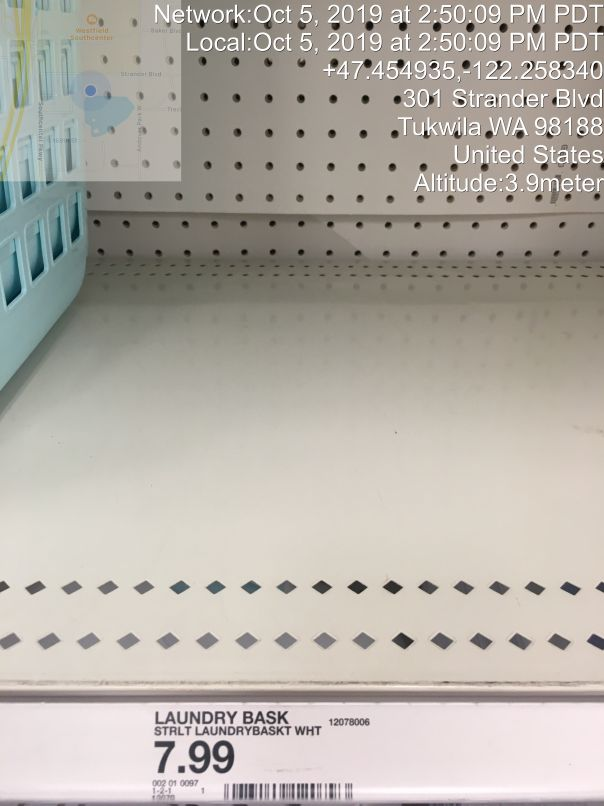Label: (140, 700, 377, 806)
Location: (394, 78, 603, 176)
Time: (149, 1, 604, 63)
Void: (106, 97, 556, 612)
